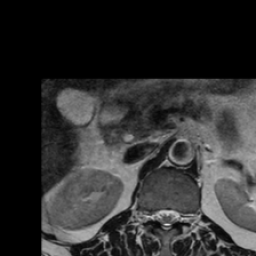CCS_normal: (163, 204, 170, 235)
LFS_normal: (178, 206, 187, 229)
LLS_normal: (170, 204, 178, 228)
RFS_normal: (145, 204, 154, 228)
RLS_normal: (154, 204, 163, 228)
